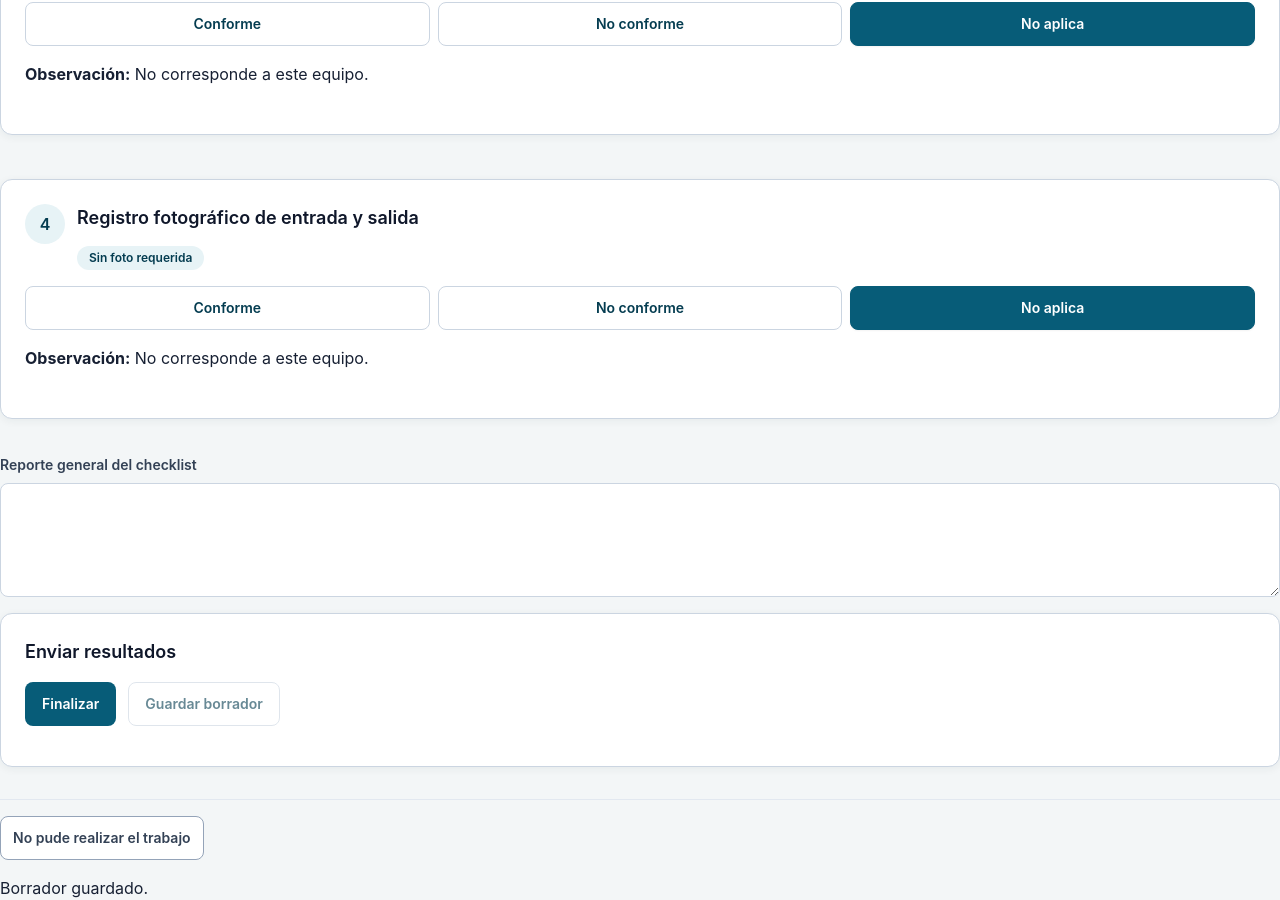
envío normal usa cierre guardado y no obtiene GPS
(page scrolled)
What coordinates should you click on to do the following:
click the button "Finalizar"
I would click on:
 (71, 704)
Its box is [25, 682, 116, 726].
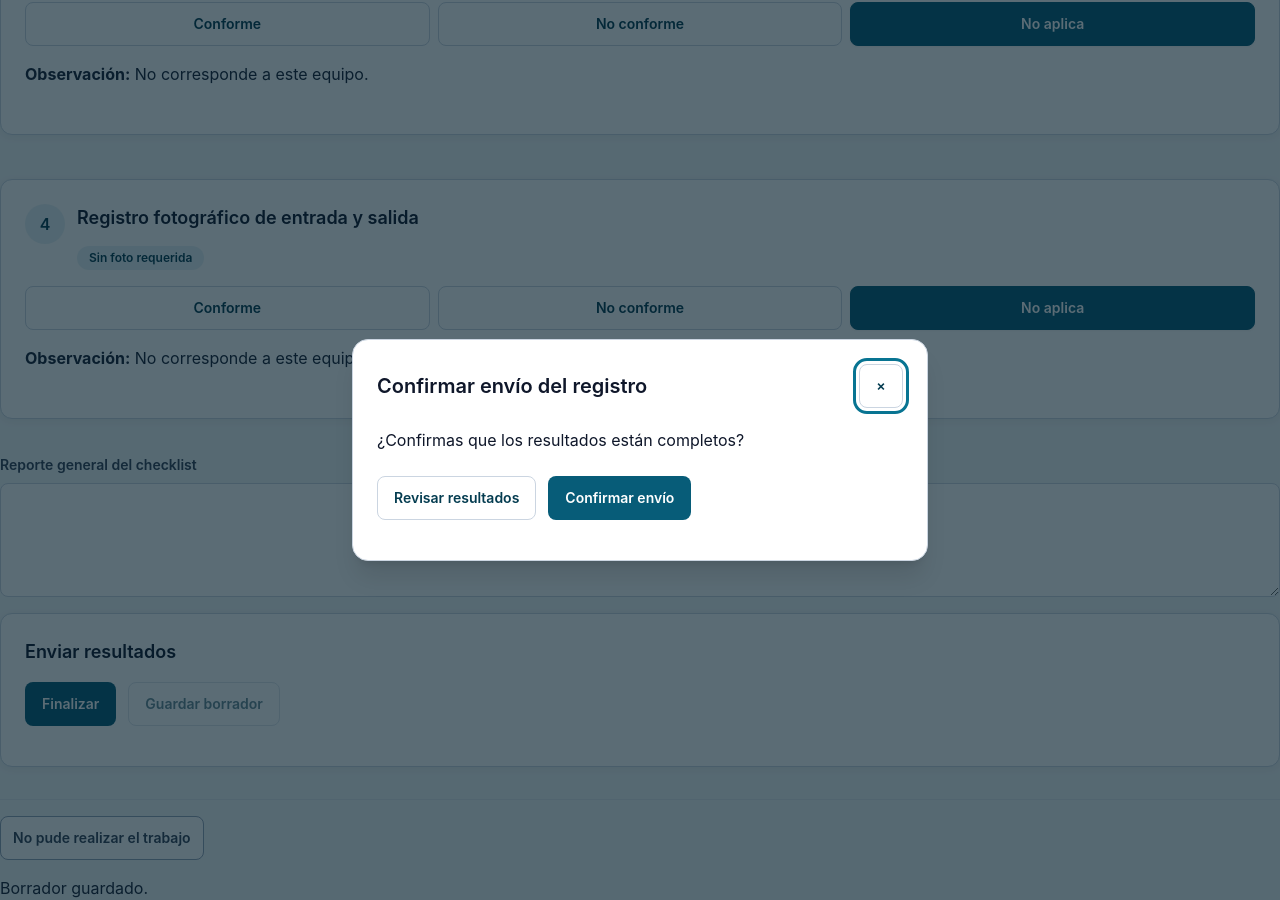
Now the button "Confirmar envío" is shown
What coordinates should you click on to do the following:
click the button "Confirmar envío"
I would click on:
 (620, 498)
Its box is [548, 476, 691, 520].
(page scrolled)
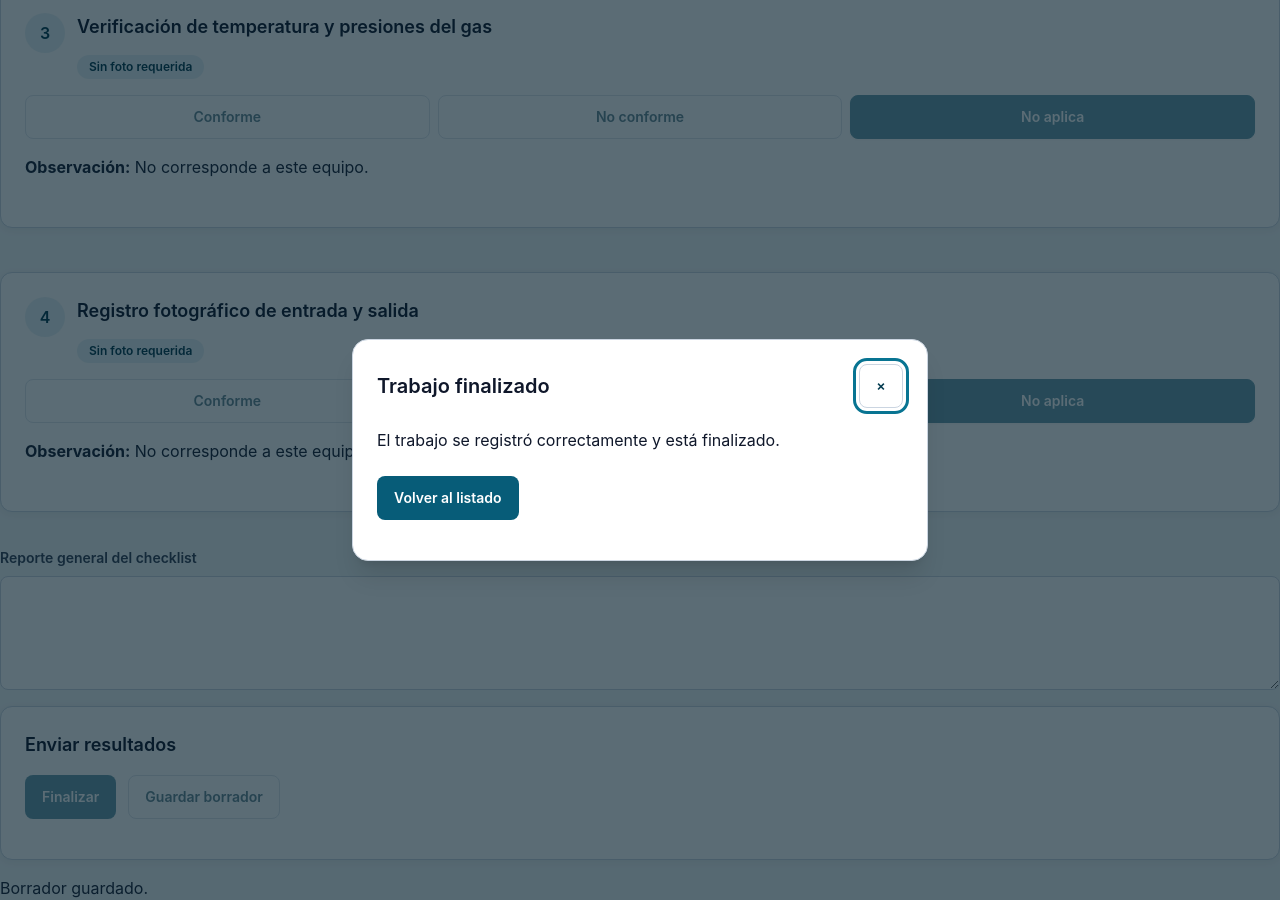
Now the dialog "Trabajo finalizado" is shown, box [352, 339, 928, 561]
